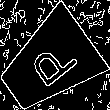P_SW: (19, 34, 78, 94)
